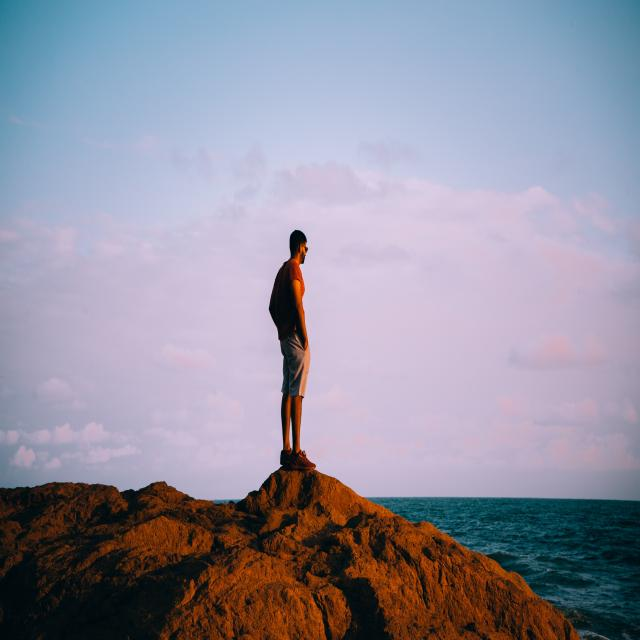standing: (267, 229, 315, 473)
